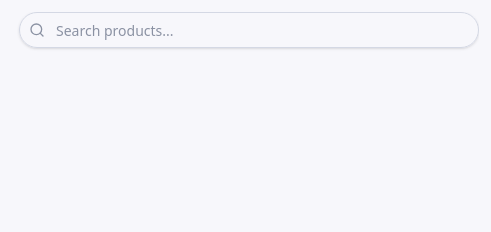
SearchBar › shows debounced product suggestions once 2+ characters are typed
In the dropdown: (249, 30) x1=19 y1=12 x2=479 y2=48, type "ha"
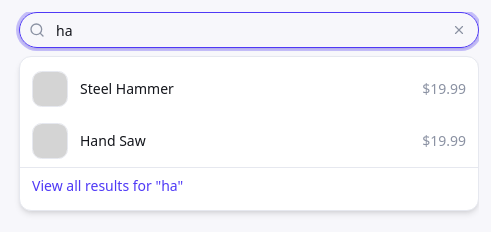
Check: the text "Steel Hammer" is shown, box x1=80 y1=79 x2=174 y2=98
Check: the text "Hand Saw" is shown, box x1=80 y1=131 x2=146 y2=150
